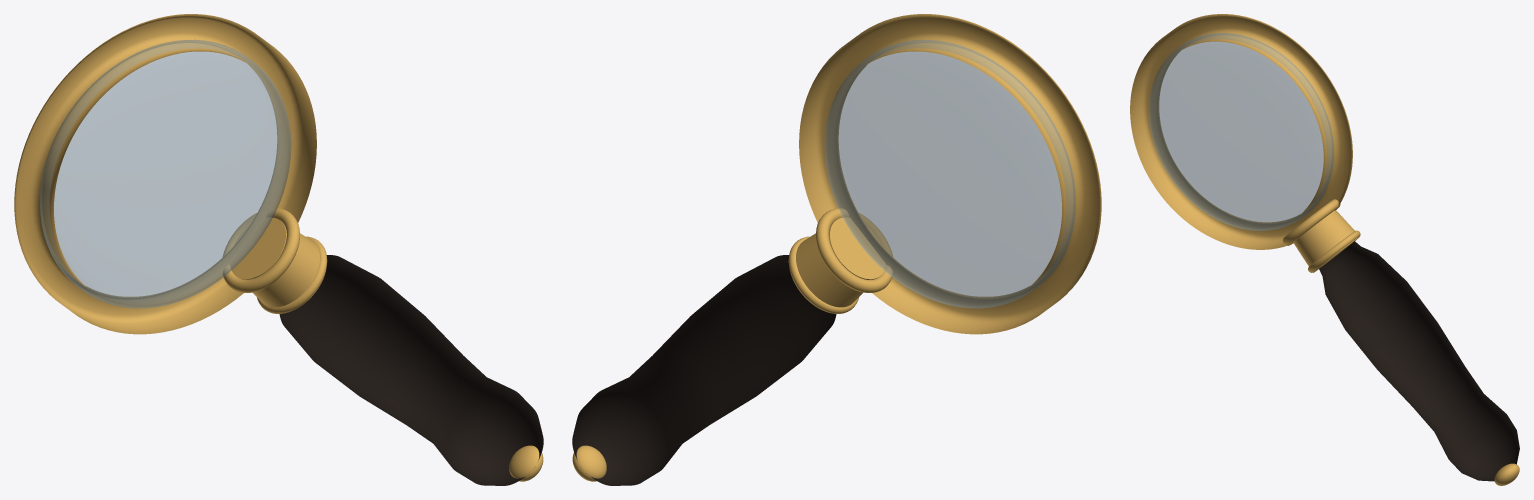
The model's file is magnifying-glass.glb.
The picture shows the model from 3 angles, left to right: view 1: azimuth 30°, elevation 25°; view 2: azimuth 150°, elevation 25°; view 3: azimuth 330°, elevation 25°; orthographic projection. The views are drawn at different scales.
Visible parts, largest first — view 1: lens-glass, bezel-ring, handle, ferrule, ferrule-collar, finial-cap, ferrule-band; view 2: lens-glass, bezel-ring, handle, ferrule, ferrule-collar, finial-cap, ferrule-band; view 3: lens-glass, handle, bezel-ring, ferrule, ferrule-collar, ferrule-band.
Boxes of the visible parts, box(x1,y1,x2,y2) form: lens-glass: box(40, 39, 291, 308); bezel-ring: box(14, 14, 316, 334); handle: box(279, 255, 543, 485); ferrule: box(230, 217, 325, 310); ferrule-collar: box(223, 208, 299, 292); finial-cap: box(509, 445, 543, 481); ferrule-band: box(257, 236, 327, 313); lens-glass: box(824, 39, 1075, 308); bezel-ring: box(799, 14, 1101, 334); handle: box(572, 255, 836, 485); ferrule: box(790, 217, 885, 310); ferrule-collar: box(816, 208, 892, 292); finial-cap: box(572, 445, 606, 481); ferrule-band: box(788, 236, 858, 313); lens-glass: box(1149, 33, 1333, 230); handle: box(1319, 241, 1519, 481); bezel-ring: box(1130, 14, 1352, 249); ferrule: box(1293, 210, 1359, 272); ferrule-collar: box(1282, 199, 1340, 245); ferrule-band: box(1308, 230, 1360, 272).
Size of the model in its own units: 0.1888 by 0.1888 by 0.0336.
